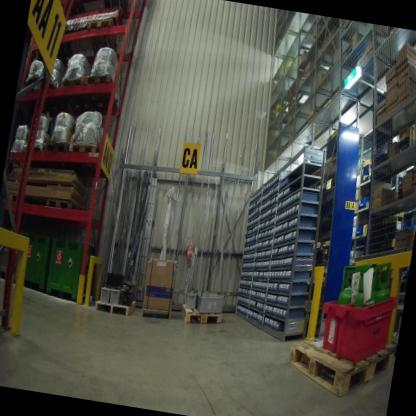pallet: (274, 315, 397, 408), (79, 16, 125, 69), (80, 66, 124, 115), (89, 291, 137, 324), (66, 136, 108, 171), (39, 197, 89, 225), (180, 302, 227, 331), (95, 0, 134, 25), (32, 71, 63, 102), (59, 69, 86, 104), (138, 304, 179, 326), (43, 136, 74, 160), (52, 0, 88, 20), (24, 136, 47, 162)
small_load_carrier: (310, 275, 399, 364)
